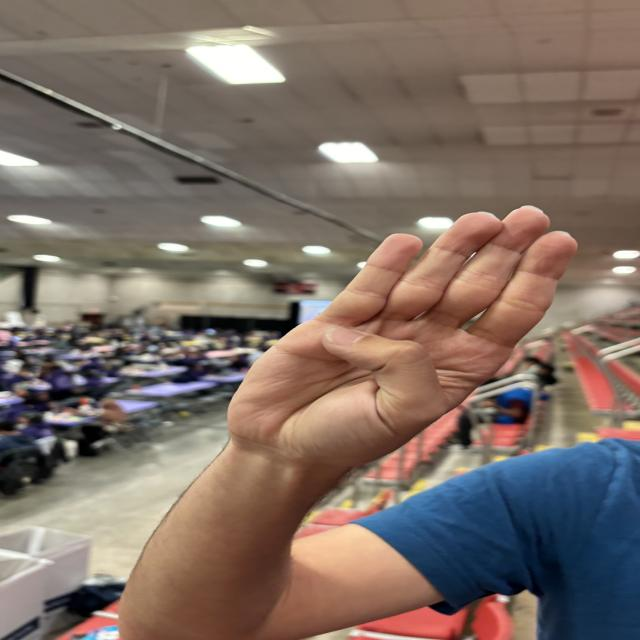B: (216, 192, 594, 461)
